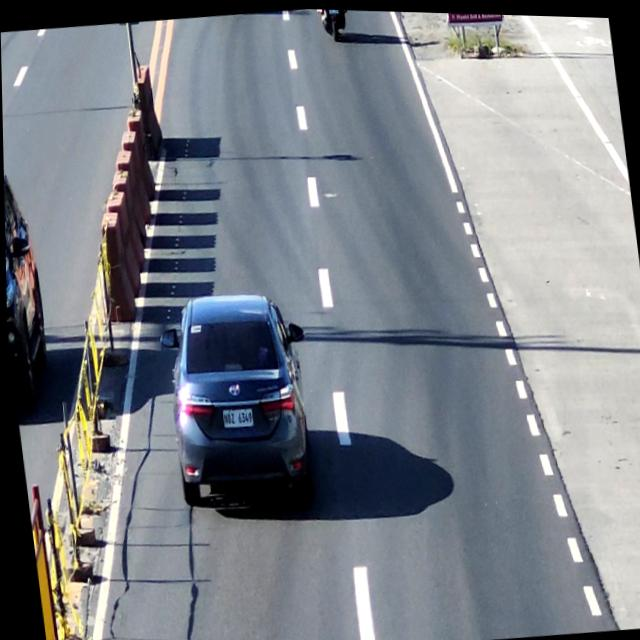Car: (150, 284, 320, 513)
License-Plate: (218, 397, 254, 432)
